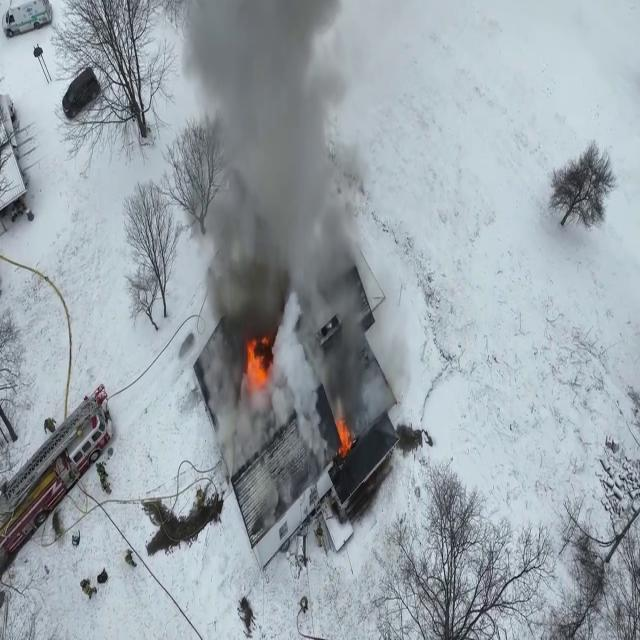Fire: (242, 329, 276, 399)
Smoke: (172, 1, 396, 443)
